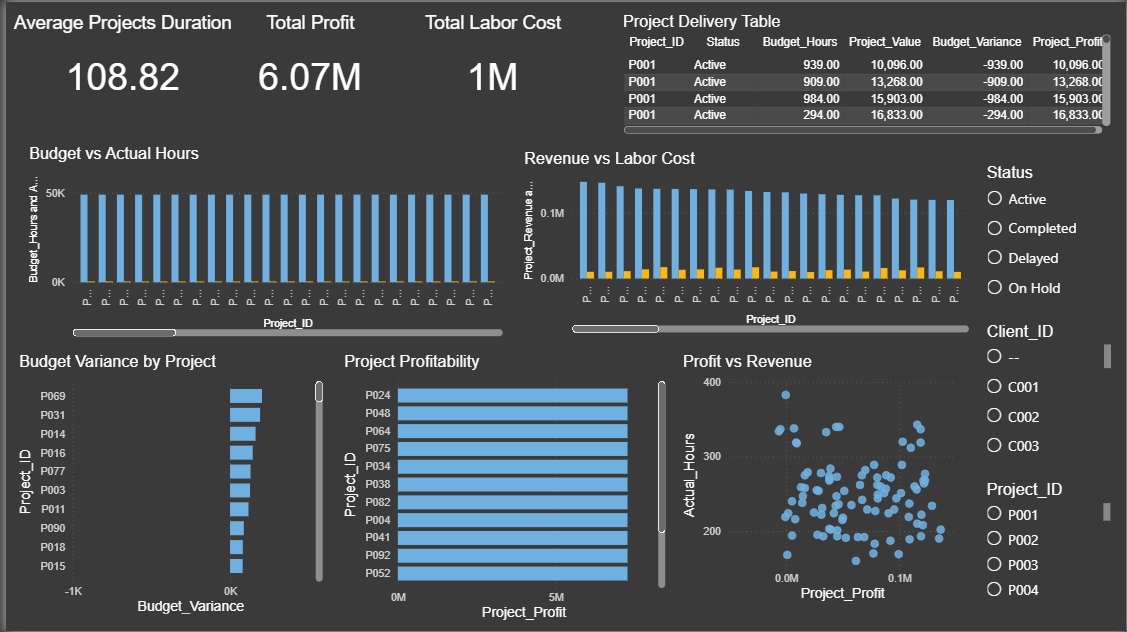

The dashboard page shown, as its layout file describes it:
{"tool":"powerbi","page":{"name":"Delivery Operations","canvas":[1280,720],"ordinal":1},"visuals":[{"type":"clusteredColumnChart","title":"Budget vs Actual Hours","fields":{"Category":["psod timelogs_cleaned.Project_ID"],"Y":["psod timelogs_cleaned.Budget_Hours","psod timelogs_cleaned.Actual_Hours"]},"box":[21.4,162.9,551.4,224.3],"z":0},{"type":"clusteredBarChart","title":"Budget Variance by Project","fields":{"Category":["psod projects_cleaned.Project_ID"],"Y":["psod timelogs_cleaned.Budget_Variance"]},"box":[10,400,357.1,304.3],"z":1000},{"type":"barChart","title":"Project Profitability","fields":{"Category":["psod timelogs_cleaned.Project_ID"],"Y":["psod projects_cleaned.Project_Profit"]},"box":[381.4,400,377.1,311.4],"z":2000},{"type":"scatterChart","title":"Profit vs Revenue","fields":{"Category":["psod projects_cleaned.Project_ID"],"X":["psod projects_cleaned.Project_Profit"],"Y":["psod timelogs_cleaned.Actual_Hours"]},"box":[768.6,400,337.1,290],"z":3000},{"type":"cardVisual","title":"Average Projects Duration","fields":{"Data":["psod projects_cleaned.Average_Duration"]},"box":[0,11.4,267.1,117.1],"z":4000},{"type":"tableEx","title":"Project Delivery Table ","fields":{"Values":["psod timelogs_cleaned.Project_ID","psod projects_cleaned.Status","psod timelogs_cleaned.Budget_Hours","psod projects_cleaned.Project_Value","psod timelogs_cleaned.Budget_Variance","psod projects_cleaned.Project_Profit"]},"box":[700,11.4,567.1,144.3],"z":5000},{"type":"clusteredColumnChart","title":"Revenue vs Labor Cost","fields":{"Y":["psod projects_cleaned.Project_Revenue","psod timelogs_cleaned.Labor_Cost"],"Category":["psod projects_cleaned.Project_ID"]},"box":[587.1,168.6,518.6,214.3],"z":6000},{"type":"cardVisual","title":"Total Profit","fields":{"Data":["psod projects_cleaned.Project_Profit"]},"box":[267.1,11.4,161.4,117.1],"z":7000},{"type":"cardVisual","title":"Total Labor Cost","fields":{"Data":["psod timelogs_cleaned.Labor_Cost"]},"box":[438.6,11.4,235.7,117.1],"z":8000},{"type":"listSlicer","fields":{"Values":["psod projects_cleaned.Status"]},"box":[1115.7,184.3,151.4,161.4],"z":9000},{"type":"listSlicer","fields":{"Values":["psod clients_cleaned.Client_ID"]},"box":[1115.7,365.7,152.9,161.4],"z":10000},{"type":"listSlicer","fields":{"Values":["psod projects_cleaned.Project_ID"]},"box":[1115.7,547.1,151.4,142.9],"z":11000}]}

Visuals, with their boxes in screenshot pixels (x1, y1, x2, y2), scaled from the page's 1280x720 canvas onto the 1127x632 screenshot:
"Budget vs Actual Hours" clusteredColumnChart: pyautogui.locateOnScreen(19, 143, 504, 340)
"Budget Variance by Project" clusteredBarChart: pyautogui.locateOnScreen(9, 351, 323, 618)
"Project Profitability" barChart: pyautogui.locateOnScreen(336, 351, 668, 624)
"Profit vs Revenue" scatterChart: pyautogui.locateOnScreen(677, 351, 974, 606)
"Average Projects Duration" cardVisual: pyautogui.locateOnScreen(0, 10, 235, 113)
"Project Delivery Table " tableEx: pyautogui.locateOnScreen(616, 10, 1116, 137)
"Revenue vs Labor Cost" clusteredColumnChart: pyautogui.locateOnScreen(517, 148, 974, 336)
"Total Profit" cardVisual: pyautogui.locateOnScreen(235, 10, 377, 113)
"Total Labor Cost" cardVisual: pyautogui.locateOnScreen(386, 10, 594, 113)
listSlicer - psod projects_cleaned.Status: pyautogui.locateOnScreen(982, 162, 1116, 303)
listSlicer - psod clients_cleaned.Client_ID: pyautogui.locateOnScreen(982, 321, 1117, 463)
listSlicer - psod projects_cleaned.Project_ID: pyautogui.locateOnScreen(982, 480, 1116, 606)
